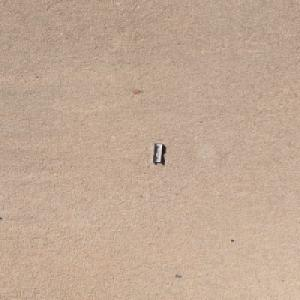ClampPart: (151, 142, 164, 162)
